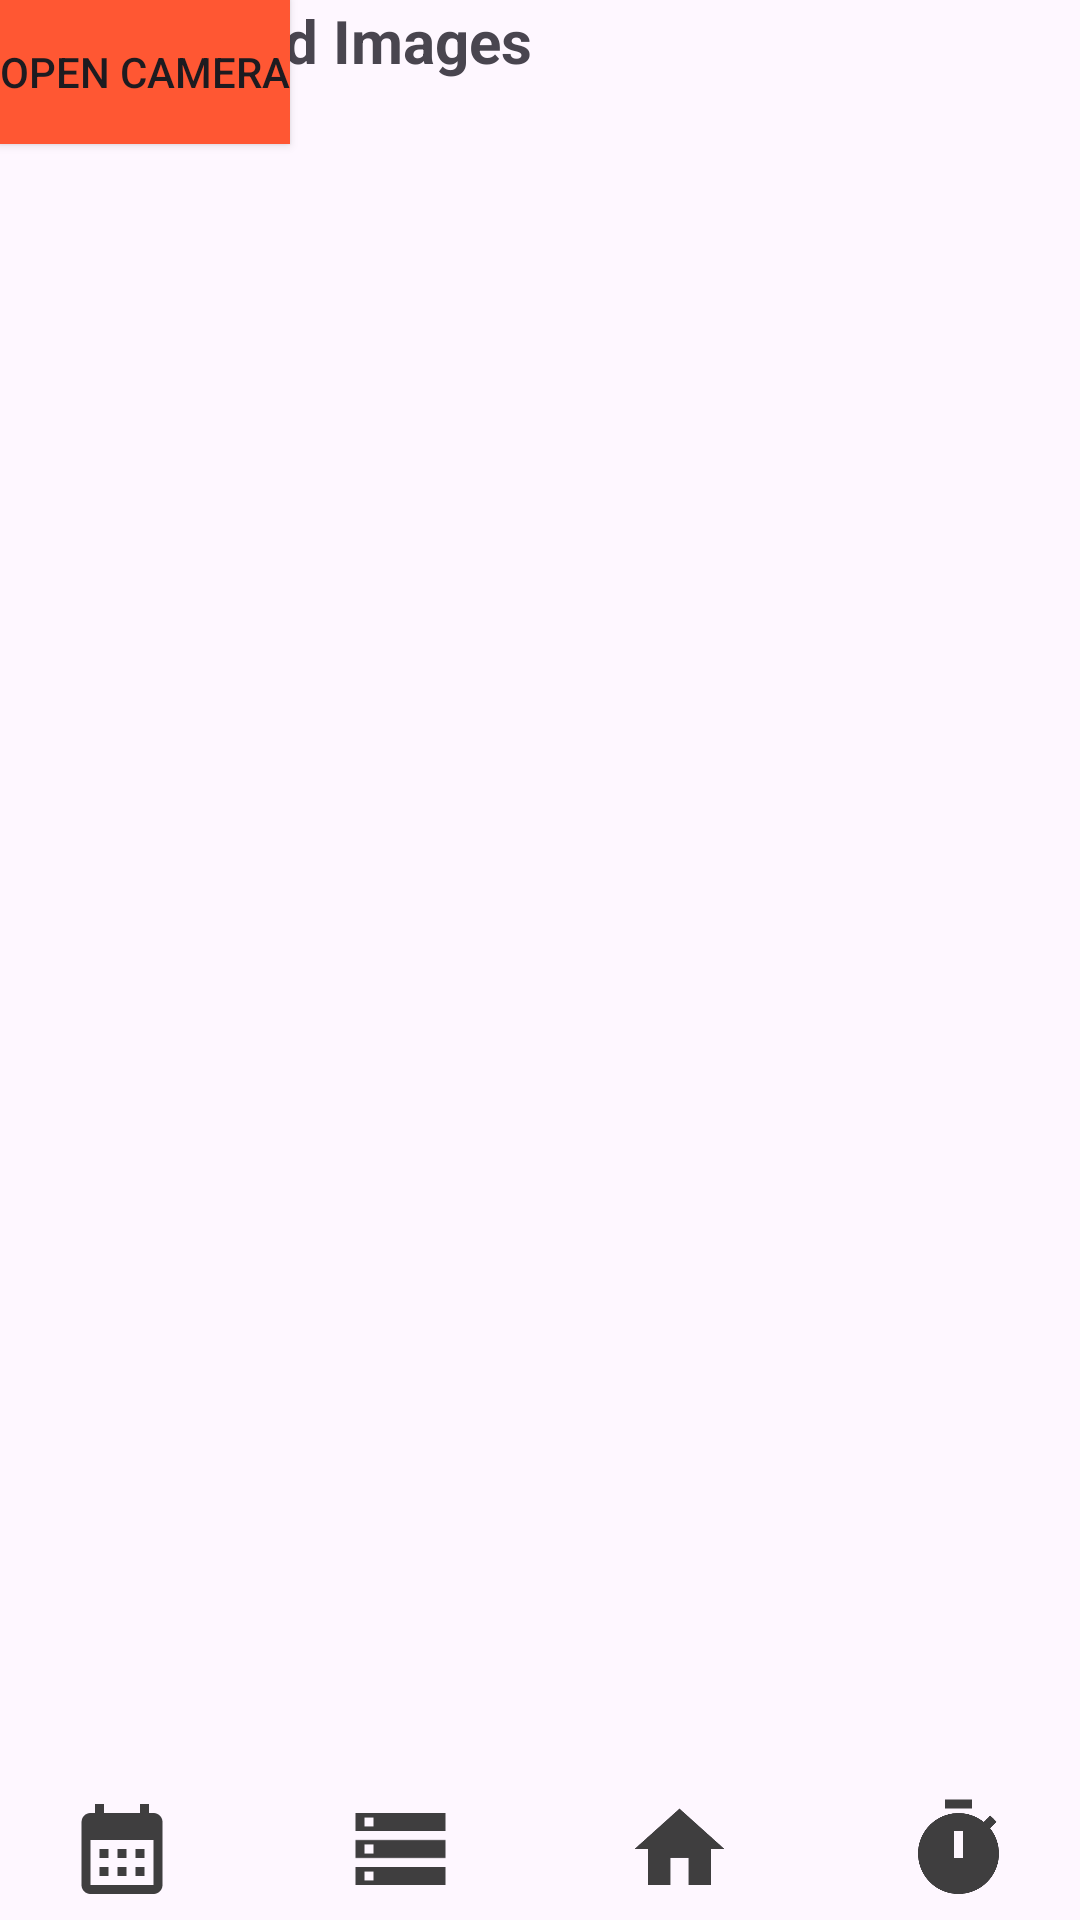

Where to tap for icons on this 1080px x 1920px app screen, as point (x, y):
calendar: point (122, 1849)
home: point (679, 1846)
storage: point (400, 1849)
timer: point (958, 1846)
